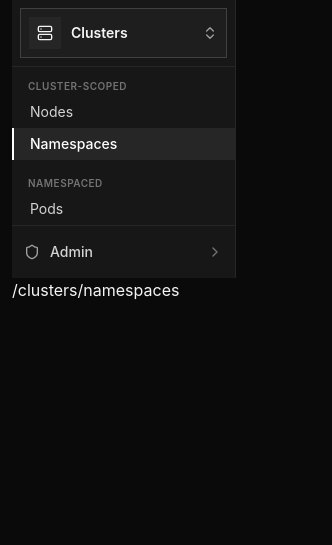
Test: Sidebar › keeps the current area while on an Admin page
The image size is (332, 545).
Click the button "Admin" at (124, 252), box [12,234,235,270]
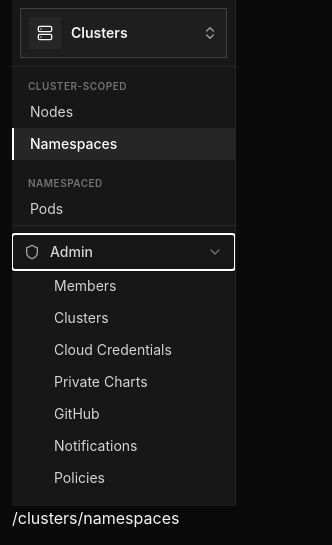
// Admin's own Clusters page (registration) is not part of the area.
Click the link "Clusters" at (81, 318), box [54,309,109,326]
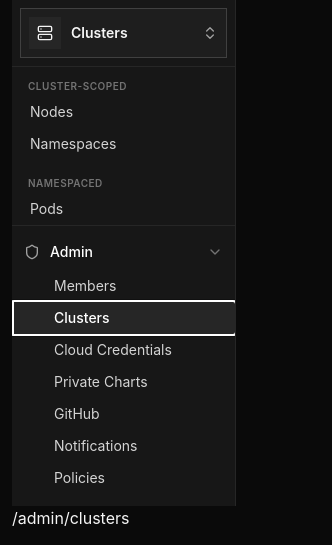
Expected: the button with test id "area-switcher" reads "Clusters", [20,8,227,58]
Expected: the text with test id "location" reads "/admin/clusters", [12,508,130,528]
